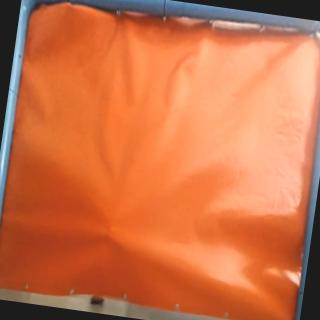Hit-hRxx: (101, 225, 121, 244)
